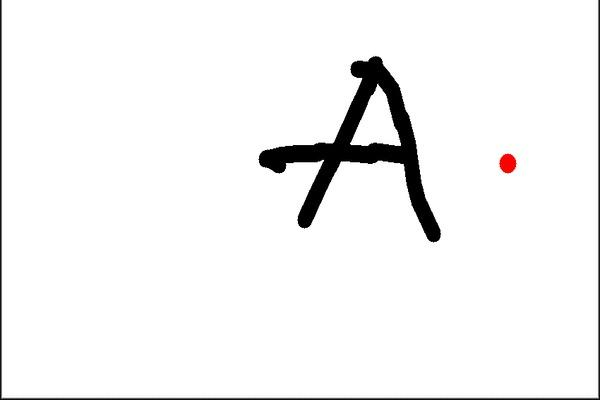A: (251, 46, 452, 248)
